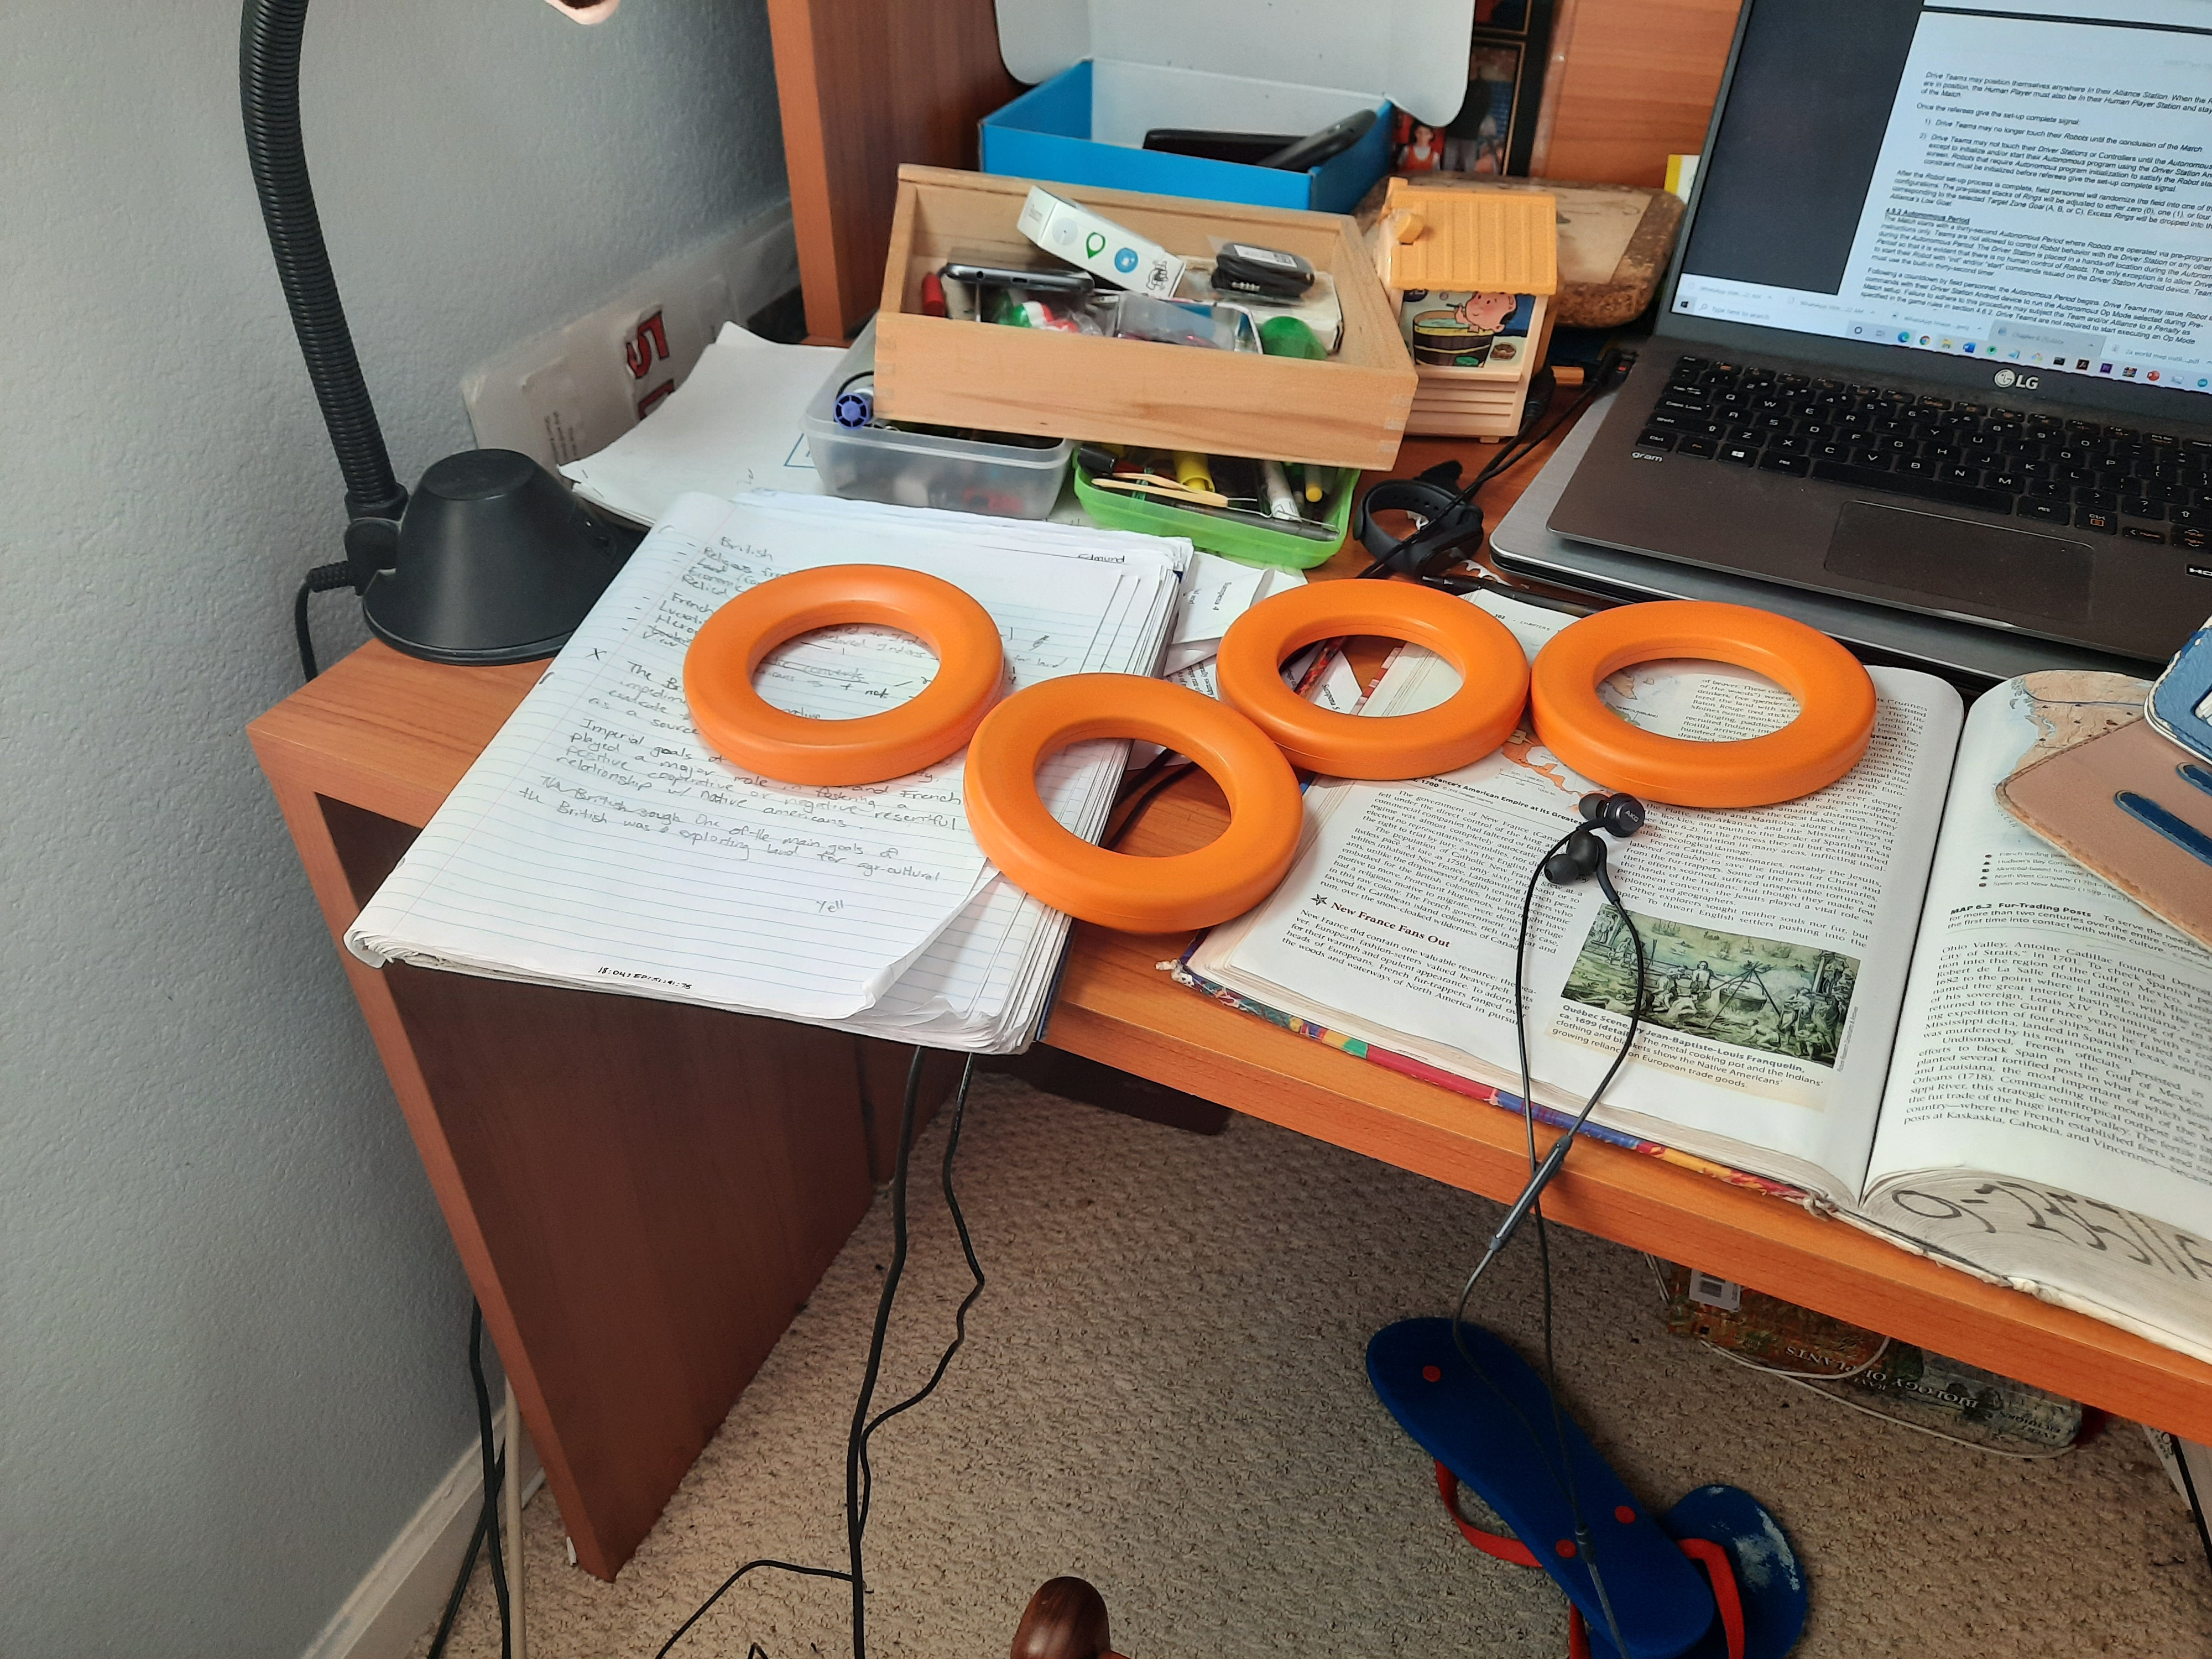OneStack: (974, 687, 1299, 913), (1536, 613, 1879, 803), (688, 570, 989, 772), (1231, 584, 1522, 762)
